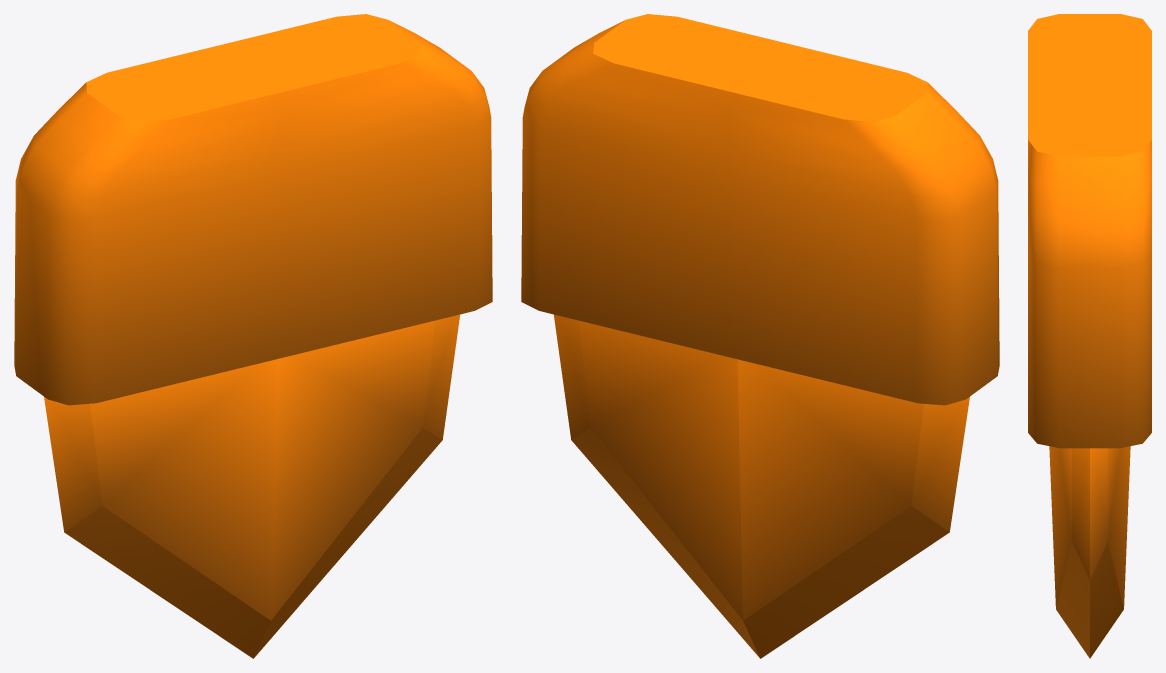
Rendered from bronze_pommel_145.glb.
3 views of the same model, side by side, from view 1: azimuth 30°, elevation 25°; view 2: azimuth 150°, elevation 25°; view 3: azimuth 270°, elevation 25° (orthographic). The views are drawn at different scales.
Parts seen in each view (by area): view 1: bronze_pommel_145; view 2: bronze_pommel_145; view 3: bronze_pommel_145.
Boxes of the visible parts, bbox=[...] form: bronze_pommel_145: bbox=[14, 14, 492, 658]; bronze_pommel_145: bbox=[521, 14, 999, 658]; bronze_pommel_145: bbox=[1028, 14, 1151, 658].
Size of the model in its own units: 1.66 by 2.12 by 0.4148.
Materials: 1 (1 with a texture image).
